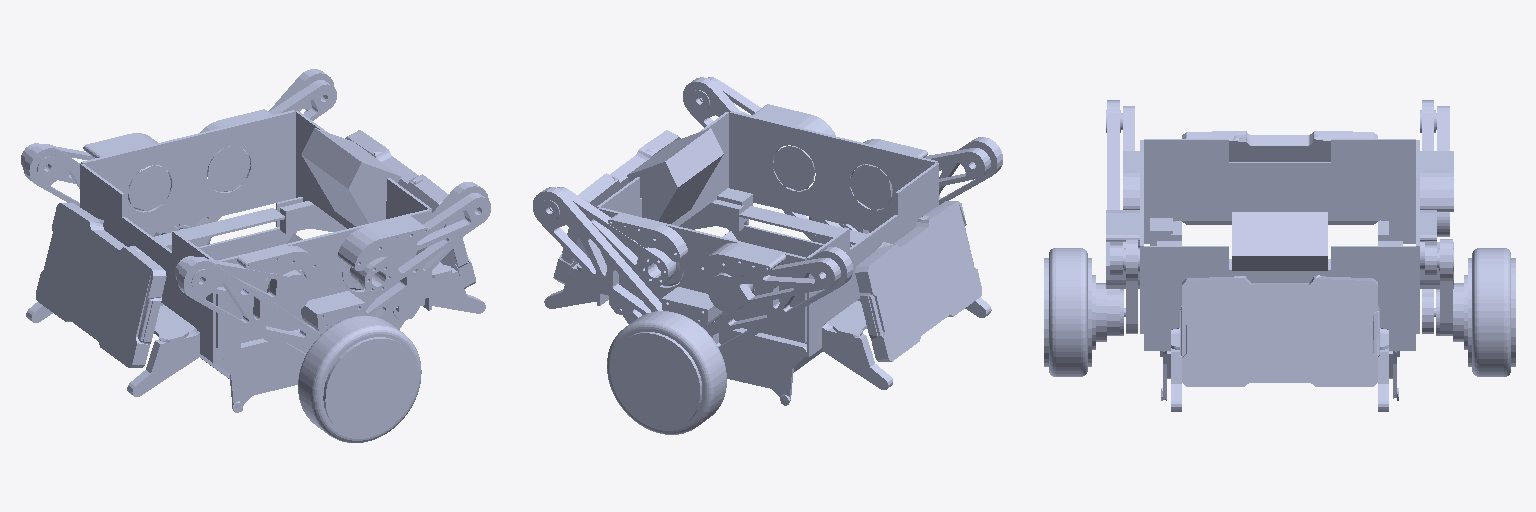
robot.urdf — BFG3_model_3:
<?xml version="1.0" encoding="utf-8"?>
<!-- This URDF was automatically created by SolidWorks to URDF Exporter! Originally created by [author] ([email redacted]) 
     Commit Version: 1.6.0-4-g7f85cfe  Build Version: 1.6.7995.38578
     For more information, please see http://wiki.ros.org/sw_urdf_exporter -->
<robot
  name="BFG3_model_3">
  <link
    name="base_link">
    <inertial>
      <origin
        xyz="0.00433394840682744 -0.00306320117180597 -0.0194116631633085"
        rpy="0 0 0" />
      <mass
        value="2.73857462399271" />
      <inertia
        ixx="0.00714529233512344"
        ixy="-1.65940222334059E-07"
        ixz="3.51691176172551E-05"
        iyy="0.00558505476211354"
        iyz="-3.76353161715973E-11"
        izz="0.00918684038293283" />
    </inertial>
    <visual>
      <origin
        xyz="0 0 0"
        rpy="0 0 0" />
      <geometry>
        <mesh
          filename="package://BFG3_model_3/meshes/base_link.STL" />
      </geometry>
      <material
        name="">
        <color
          rgba="0.792156862745098 0.819607843137255 0.933333333333333 1" />
      </material>
    </visual>
    <collision>
      <origin
        xyz="0 0 0"
        rpy="0 0 0" />
      <geometry>
        <mesh
          filename="package://BFG3_model_3/meshes/base_link.STL" />
      </geometry>
    </collision>
  </link>
  <link
    name="LF_upper">
    <inertial>
      <origin
        xyz="0.0650130772930368 -0.0271236389517819 0.0150082445304447"
        rpy="0 0 0" />
      <mass
        value="0.0676861146381243" />
      <inertia
        ixx="4.23609230157793E-05"
        ixy="7.13018602415457E-05"
        ixz="1.41300187765697E-19"
        iyy="0.000176534584005962"
        iyz="-9.58438348899675E-20"
        izz="0.000216434942762677" />
    </inertial>
    <visual>
      <origin
        xyz="0 0 0"
        rpy="0 0 0" />
      <geometry>
        <mesh
          filename="package://BFG3_model_3/meshes/LF_upper.STL" />
      </geometry>
      <material
        name="">
        <color
          rgba="0.792156862745098 0.819607843137255 0.933333333333333 1" />
      </material>
    </visual>
    <collision>
      <origin
        xyz="0 0 0"
        rpy="0 0 0" />
      <geometry>
        <mesh
          filename="package://BFG3_model_3/meshes/LF_upper.STL" />
      </geometry>
    </collision>
  </link>
  <joint
    name="LF_motor"
    type="continuous">
    <origin
      xyz="0.0549999999999999 0.162499997615819 0"
      rpy="-1.5707963267949 0 0" />
    <parent
      link="base_link" />
    <child
      link="LF_upper" />
    <axis
      xyz="0 0 -1" />
  </joint>
  <link
    name="LF_below">
    <inertial>
      <origin
        xyz="-0.0991295944129766 0.0806420105529512 0.0282418594945069"
        rpy="0 0 0" />
      <mass
        value="0.142828758322776" />
      <inertia
        ixx="0.000431832046924401"
        ixy="0.000481880745735413"
        ixz="1.55660288226669E-18"
        iyy="0.000614611631775238"
        iyz="-1.36527637527773E-18"
        izz="0.00104134203793489" />
    </inertial>
    <visual>
      <origin
        xyz="0 0 0"
        rpy="0 0 0" />
      <geometry>
        <mesh
          filename="package://BFG3_model_3/meshes/LF_below.STL" />
      </geometry>
      <material
        name="">
        <color
          rgba="0.792156862745098 0.819607843137255 0.933333333333333 1" />
      </material>
    </visual>
    <collision>
      <origin
        xyz="0 0 0"
        rpy="0 0 0" />
      <geometry>
        <mesh
          filename="package://BFG3_model_3/meshes/LF_below.STL" />
      </geometry>
    </collision>
  </link>
  <joint
    name="LF_leg_joint"
    type="continuous">
    <origin
      xyz="0.138407000906351 -0.0578230239619941 0.00499999999999023"
      rpy="0 0 0" />
    <parent
      link="LF_upper" />
    <child
      link="LF_below" />
    <axis
      xyz="0 0 -1" />
  </joint>
  <link
    name="L_wheel">
    <inertial>
      <origin
        xyz="-1.97207528085386E-12 -2.45035589041542E-12 0.0800201771462317"
        rpy="0 0 0" />
      <mass
        value="1.02718865196132" />
      <inertia
        ixx="0.0016487592134189"
        ixy="4.7339965561253E-20"
        ixz="-1.38498208063596E-19"
        iyy="0.0016487592134189"
        iyz="-3.29323630968878E-18"
        izz="0.00265945663227123" />
    </inertial>
    <visual>
      <origin
        xyz="0 0 0"
        rpy="0 0 0" />
      <geometry>
        <mesh
          filename="package://BFG3_model_3/meshes/L_wheel.STL" />
      </geometry>
      <material
        name="">
        <color
          rgba="0.792156862745098 0.819607843137255 0.933333333333333 1" />
      </material>
    </visual>
    <collision>
      <origin
        xyz="0 0 0"
        rpy="0 0 0" />
      <geometry>
        <mesh
          filename="package://BFG3_model_3/meshes/L_wheel.STL" />
      </geometry>
    </collision>
  </link>
  <joint
    name="LF_wheel_joint"
    type="continuous">
    <origin
      xyz="-0.193407000906352 0.158410012311121 -0.000499999999960976"
      rpy="0 0 0" />
    <parent
      link="LF_below" />
    <child
      link="L_wheel" />
    <axis
      xyz="0 0 -1" />
  </joint>
  <link
    name="LB_below">
    <inertial>
      <origin
        xyz="-0.102054497123397 -0.0841819775681431 0.00753564127891371"
        rpy="0 0 0" />
      <mass
        value="0.132217168444247" />
      <inertia
        ixx="0.000417490221829177"
        ixy="-0.00046851371376093"
        ixz="-3.29018223106585E-20"
        iyy="0.000595085702441836"
        iyz="-2.72862494556802E-20"
        izz="0.00100783361765157" />
    </inertial>
    <visual>
      <origin
        xyz="0 0 0"
        rpy="0 0 0" />
      <geometry>
        <mesh
          filename="package://BFG3_model_3/meshes/LB_below.STL" />
      </geometry>
      <material
        name="">
        <color
          rgba="0.792156862745098 0.819607843137255 0.933333333333333 1" />
      </material>
    </visual>
    <collision>
      <origin
        xyz="0 0 0"
        rpy="0 0 0" />
      <geometry>
        <mesh
          filename="package://BFG3_model_3/meshes/LB_below.STL" />
      </geometry>
    </collision>
  </link>
  <joint
    name="LB_wheel_joint"
    type="continuous">
    <origin
      xyz="0 0 0"
      rpy="0 0 0" />
    <parent
      link="L_wheel" />
    <child
      link="LB_below" />
    <axis
      xyz="0 0 -1" />
  </joint>
  <link
    name="LB_upper">
    <inertial>
      <origin
        xyz="0.0782441113208532 0.0326540004693341 -0.00966245795925946"
        rpy="0 0 0" />
      <mass
        value="0.0731130195976598" />
      <inertia
        ixx="3.99487339618615E-05"
        ixy="-6.79478327864683E-05"
        ixz="1.49712963814763E-21"
        iyy="0.000180912418922268"
        iyz="1.18936433976975E-21"
        izz="0.000217697804432806" />
    </inertial>
    <visual>
      <origin
        xyz="0 0 0"
        rpy="0 0 0" />
      <geometry>
        <mesh
          filename="package://BFG3_model_3/meshes/LB_upper.STL" />
      </geometry>
      <material
        name="">
        <color
          rgba="0.792156862745098 0.819607843137255 0.933333333333333 1" />
      </material>
    </visual>
    <collision>
      <origin
        xyz="0 0 0"
        rpy="0 0 0" />
      <geometry>
        <mesh
          filename="package://BFG3_model_3/meshes/LB_upper.STL" />
      </geometry>
    </collision>
  </link>
  <joint
    name="LB_leg_joint"
    type="continuous">
    <origin
      xyz="-0.193407000906358 -0.158410012311107 0.0334999999999795"
      rpy="0 0 0" />
    <parent
      link="LB_below" />
    <child
      link="LB_upper" />
    <axis
      xyz="0 0 -1" />
  </joint>
  <link
    name="L_body">
    <inertial>
      <origin
        xyz="-6.21724893790088E-15 1.12826414877532E-14 -0.0100000000000001"
        rpy="0 0 0" />
      <mass
        value="0.0392699081698724" />
      <inertia
        ixx="7.44492009053832E-06"
        ixy="6.24245635606682E-22"
        ixz="-1.30551799527545E-21"
        iyy="7.44492009053833E-06"
        iyz="-1.1484295449125E-20"
        izz="1.22718463030851E-05" />
    </inertial>
    <visual>
      <origin
        xyz="0 0 0"
        rpy="0 0 0" />
      <geometry>
        <mesh
          filename="package://BFG3_model_3/meshes/L_body.STL" />
      </geometry>
      <material
        name="">
        <color
          rgba="0.792156862745098 0.819607843137255 0.933333333333333 1" />
      </material>
    </visual>
    <collision>
      <origin
        xyz="0 0 0"
        rpy="0 0 0" />
      <geometry>
        <mesh
          filename="package://BFG3_model_3/meshes/L_body.STL" />
      </geometry>
    </collision>
  </link>
  <joint
    name="LB_motor"
    type="continuous">
    <origin
      xyz="0.138407000906364 0.0578230239619683 0"
      rpy="0 0 0" />
    <parent
      link="LB_upper" />
    <child
      link="L_body" />
    <axis
      xyz="0 0 1" />
  </joint>
  <link
    name="RF_upper">
    <inertial>
      <origin
        xyz="0.0601628895872412 0.0251690234884734 -0.00966245795926873"
        rpy="0 0 0" />
      <mass
        value="0.0731130195976597" />
      <inertia
        ixx="3.99487339522099E-05"
        ixy="-6.79478327764567E-05"
        ixz="6.42633394498208E-23"
        iyy="0.00018091241893192"
        iyz="-5.01764045413152E-22"
        izz="0.000217697804432806" />
    </inertial>
    <visual>
      <origin
        xyz="0 0 0"
        rpy="0 0 0" />
      <geometry>
        <mesh
          filename="package://BFG3_model_3/meshes/RF_upper.STL" />
      </geometry>
      <material
        name="">
        <color
          rgba="0.792156862745098 0.819607843137255 0.933333333333333 1" />
      </material>
    </visual>
    <collision>
      <origin
        xyz="0 0 0"
        rpy="0 0 0" />
      <geometry>
        <mesh
          filename="package://BFG3_model_3/meshes/RF_upper.STL" />
      </geometry>
    </collision>
  </link>
  <joint
    name="RF_motor"
    type="continuous">
    <origin
      xyz="0.0550000000000001 -0.200499997615813 0"
      rpy="1.57079632679489 0 0" />
    <parent
      link="base_link" />
    <child
      link="RF_upper" />
    <axis
      xyz="0 0 -1" />
  </joint>
  <link
    name="RF_below">
    <inertial>
      <origin
        xyz="-0.0913525037817211 -0.0742280347492391 -0.010964358721066"
        rpy="0 0 0" />
      <mass
        value="0.132217168444246" />
      <inertia
        ixx="0.0004174902217937"
        ixy="-0.000468513713754205"
        ixz="-1.42554144249149E-19"
        iyy="0.000595085702477311"
        iyz="-1.12033415386888E-19"
        izz="0.00100783361765156" />
    </inertial>
    <visual>
      <origin
        xyz="0 0 0"
        rpy="0 0 0" />
      <geometry>
        <mesh
          filename="package://BFG3_model_3/meshes/RF_below.STL" />
      </geometry>
      <material
        name="">
        <color
          rgba="0.792156862745098 0.819607843137255 0.933333333333333 1" />
      </material>
    </visual>
    <collision>
      <origin
        xyz="0 0 0"
        rpy="0 0 0" />
      <geometry>
        <mesh
          filename="package://BFG3_model_3/meshes/RF_below.STL" />
      </geometry>
    </collision>
  </link>
  <joint
    name="RF_leg_joint"
    type="continuous">
    <origin
      xyz="0.138407000906351 0.0578230239620069 -0.0150000000000091"
      rpy="0 0 0" />
    <parent
      link="RF_upper" />
    <child
      link="RF_below" />
    <axis
      xyz="0 0 1" />
  </joint>
  <link
    name="R_wheel">
    <inertial>
      <origin
        xyz="-5.13478148889135E-15 9.95731275210687E-16 0.0615201771463214"
        rpy="0 0 0" />
      <mass
        value="1.02718865196132" />
      <inertia
        ixx="0.00164875921341889"
        ixy="-1.17400531141419E-19"
        ixz="1.2762679312884E-19"
        iyy="0.00164875921341889"
        iyz="3.64121739936261E-20"
        izz="0.00265945663227123" />
    </inertial>
    <visual>
      <origin
        xyz="0 0 0"
        rpy="0 0 0" />
      <geometry>
        <mesh
          filename="package://BFG3_model_3/meshes/R_wheel.STL" />
      </geometry>
      <material
        name="">
        <color
          rgba="0.792156862745098 0.819607843137255 0.933333333333333 1" />
      </material>
    </visual>
    <collision>
      <origin
        xyz="0 0 0"
        rpy="0 0 0" />
      <geometry>
        <mesh
          filename="package://BFG3_model_3/meshes/R_wheel.STL" />
      </geometry>
    </collision>
  </link>
  <joint
    name="RF_wheel_joint"
    type="continuous">
    <origin
      xyz="-0.193407000906351 -0.158410012311123 0"
      rpy="0 0 0" />
    <parent
      link="RF_below" />
    <child
      link="R_wheel" />
    <axis
      xyz="0 0 -1" />
  </joint>
  <link
    name="RB_below">
    <inertial>
      <origin
        xyz="-0.0942774064944109 0.0777680017568626 0.0102418594945577"
        rpy="0 0 0" />
      <mass
        value="0.142828758322776" />
      <inertia
        ixx="0.000431832046935968"
        ixy="0.000481880745737607"
        ixz="-7.69120193822425E-20"
        iyy="0.00061461163176367"
        iyz="6.71172264470521E-20"
        izz="0.00104134203793489" />
    </inertial>
    <visual>
      <origin
        xyz="0 0 0"
        rpy="0 0 0" />
      <geometry>
        <mesh
          filename="package://BFG3_model_3/meshes/RB_below.STL" />
      </geometry>
      <material
        name="">
        <color
          rgba="0.792156862745098 0.819607843137255 0.933333333333333 1" />
      </material>
    </visual>
    <collision>
      <origin
        xyz="0 0 0"
        rpy="0 0 0" />
      <geometry>
        <mesh
          filename="package://BFG3_model_3/meshes/RB_below.STL" />
      </geometry>
    </collision>
  </link>
  <joint
    name="RB_wheel_joint"
    type="continuous">
    <origin
      xyz="0 0 0"
      rpy="0 0 0" />
    <parent
      link="R_wheel" />
    <child
      link="RB_below" />
    <axis
      xyz="0 0 -1" />
  </joint>
  <link
    name="RB_upper">
    <inertial>
      <origin
        xyz="0.0733939236133498 -0.0306993850102447 -0.00799175546953923"
        rpy="0 0 0" />
      <mass
        value="0.0676861146381242" />
      <inertia
        ixx="4.23609230157796E-05"
        ixy="7.1301860241546E-05"
        ixz="-5.46620114460207E-21"
        iyy="0.000176534584005962"
        iyz="1.91851861993158E-21"
        izz="0.000216434942762677" />
    </inertial>
    <visual>
      <origin
        xyz="0 0 0"
        rpy="0 0 0" />
      <geometry>
        <mesh
          filename="package://BFG3_model_3/meshes/RB_upper.STL" />
      </geometry>
      <material
        name="">
        <color
          rgba="0.792156862745098 0.819607843137255 0.933333333333333 1" />
      </material>
    </visual>
    <collision>
      <origin
        xyz="0 0 0"
        rpy="0 0 0" />
      <geometry>
        <mesh
          filename="package://BFG3_model_3/meshes/RB_upper.STL" />
      </geometry>
    </collision>
  </link>
  <joint
    name="RB_leg_joint"
    type="continuous">
    <origin
      xyz="-0.193407000906353 0.15841001231112 0"
      rpy="0 0 0" />
    <parent
      link="RB_below" />
    <child
      link="RB_upper" />
    <axis
      xyz="0 0 -1" />
  </joint>
  <link
    name="R_body">
    <inertial>
      <origin
        xyz="1.18238752122579E-14 2.12468931337639E-14 -0.01"
        rpy="0 0 0" />
      <mass
        value="0.0392699081698724" />
      <inertia
        ixx="7.44492009053832E-06"
        ixy="5.88676869266915E-23"
        ixz="-4.41162993361756E-24"
        iyy="7.44492009053832E-06"
        iyz="-1.41172157875708E-22"
        izz="1.22718463030851E-05" />
    </inertial>
    <visual>
      <origin
        xyz="0 0 0"
        rpy="0 0 0" />
      <geometry>
        <mesh
          filename="package://BFG3_model_3/meshes/R_body.STL" />
      </geometry>
      <material
        name="">
        <color
          rgba="0.792156862745098 0.819607843137255 0.933333333333333 1" />
      </material>
    </visual>
    <collision>
      <origin
        xyz="0 0 0"
        rpy="0 0 0" />
      <geometry>
        <mesh
          filename="package://BFG3_model_3/meshes/R_body.STL" />
      </geometry>
    </collision>
  </link>
  <joint
    name="RB_motor"
    type="continuous">
    <origin
      xyz="0.138407000906342 -0.0578230239620111 0"
      rpy="0 0 0" />
    <parent
      link="RB_upper" />
    <child
      link="R_body" />
    <axis
      xyz="0 0 -1" />
  </joint>
</robot>

--- Render facts (derived) ---
3 views of the same robot in one strip: view 1: azimuth 30°, elevation 25°; view 2: azimuth 150°, elevation 25°; view 3: azimuth 270°, elevation 25° (orthographic).
Model BFG3_model_3 with 13 links and 12 joints (12 continuous), rooted at base_link, posed every joint at zero.
Links seen in each view (by area): view 1: base_link, R_wheel, RB_below, RF_upper, RF_below, LB_below, RB_upper, LF_upper, LF_below, R_body; view 2: base_link, L_wheel, LF_below, LB_below, LB_upper, LF_upper, RF_below, RB_upper, RB_below, L_body, RF_upper; view 3: base_link, L_wheel, R_wheel, RB_below, LF_below, LB_below, RF_below, LB_upper, LF_upper, RB_upper.
Link boxes in pixels (x1,y1,x2,y2): base_link: (26, 109, 485, 412); R_wheel: (298, 316, 421, 442); RB_below: (177, 257, 320, 360); RF_upper: (350, 193, 490, 294); RF_below: (359, 182, 488, 319); LB_below: (23, 144, 203, 250); RB_upper: (175, 256, 307, 308); LF_upper: (207, 80, 336, 170); LF_below: (154, 69, 333, 236); R_body: (267, 270, 310, 312); base_link: (544, 104, 991, 405); L_wheel: (607, 311, 726, 434); LF_below: (533, 187, 662, 320); LB_below: (705, 247, 852, 353); LB_upper: (711, 258, 840, 308); LF_upper: (557, 187, 675, 285); RF_below: (683, 77, 852, 246); RB_upper: (892, 148, 990, 195); RB_below: (838, 137, 1002, 233); L_body: (708, 272, 750, 312); RF_upper: (708, 77, 815, 172); base_link: (1106, 131, 1453, 411); L_wheel: (1453, 248, 1515, 376); R_wheel: (1044, 248, 1106, 376); RB_below: (1106, 100, 1125, 335); LF_below: (1434, 239, 1453, 335); LB_below: (1420, 100, 1436, 333); RF_below: (1123, 239, 1139, 333); LB_upper: (1437, 106, 1449, 150); LF_upper: (1420, 241, 1436, 274); RB_upper: (1123, 106, 1134, 150).
Bounding box of the posed robot: 0.491 × 0.5554 × 0.2598 m (x, y, z).
13 mesh visuals loaded from 13 distinct referenced files (13 binary STL).